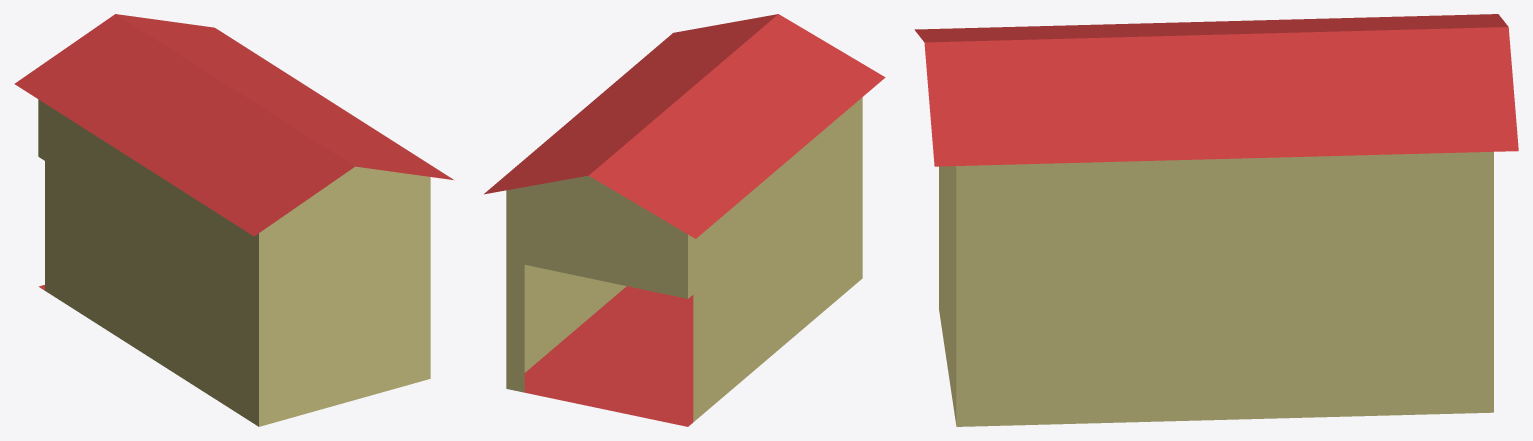
3 renders of one model, left to right at view 1: azimuth 30°, elevation 25°; view 2: azimuth 150°, elevation 25°; view 3: azimuth 270°, elevation 25°, orthographic. The views are drawn at different scales.
Size of the model in its own units: 11.56 by 19.35 by 11.55.
